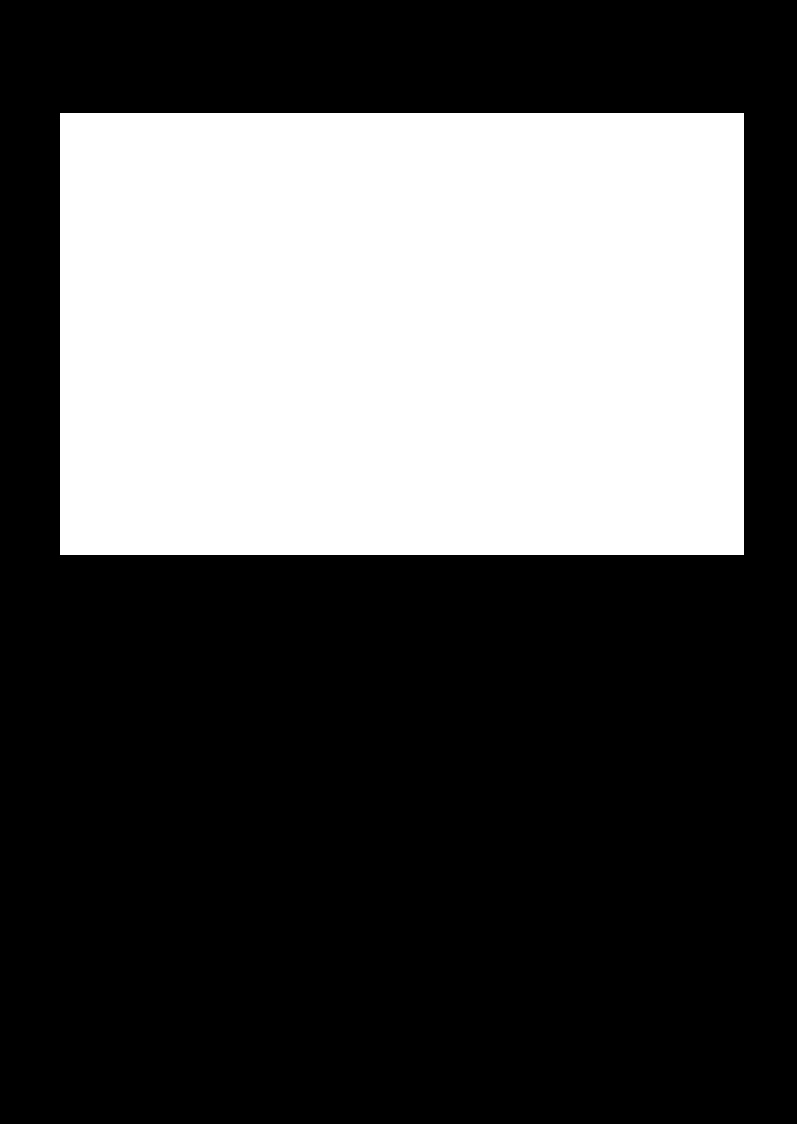table: (60, 113, 743, 554)
